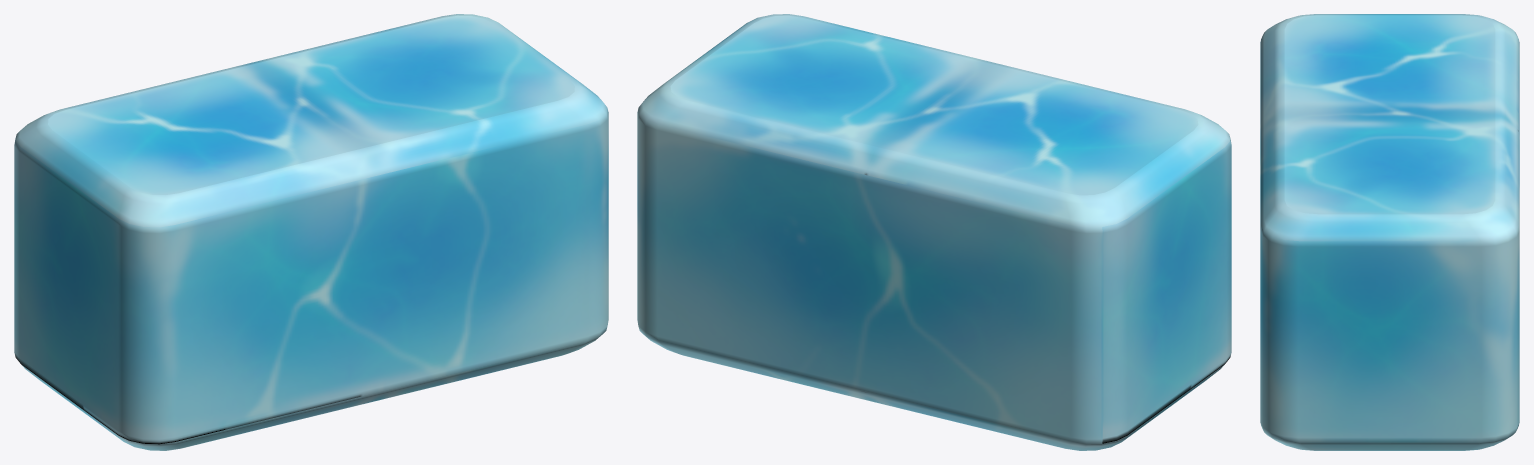
File: Ice_Block_08.fbx
3 views of the same model, side by side, from view 1: azimuth 30°, elevation 25°; view 2: azimuth 150°, elevation 25°; view 3: azimuth 270°, elevation 25° (orthographic). The views are drawn at different scales.
Parts seen in each view (by area): view 1: Ice_Block_08; view 2: Ice_Block_08; view 3: Ice_Block_08.
Boxes of the visible parts, left/top/right/bottom form: Ice_Block_08: left=14, top=14, right=608, bottom=450; Ice_Block_08: left=637, top=14, right=1231, bottom=450; Ice_Block_08: left=1260, top=14, right=1519, bottom=450.
Bounding box in the file's own units: 2 × 1 × 1.
1 material, 1 textured.
